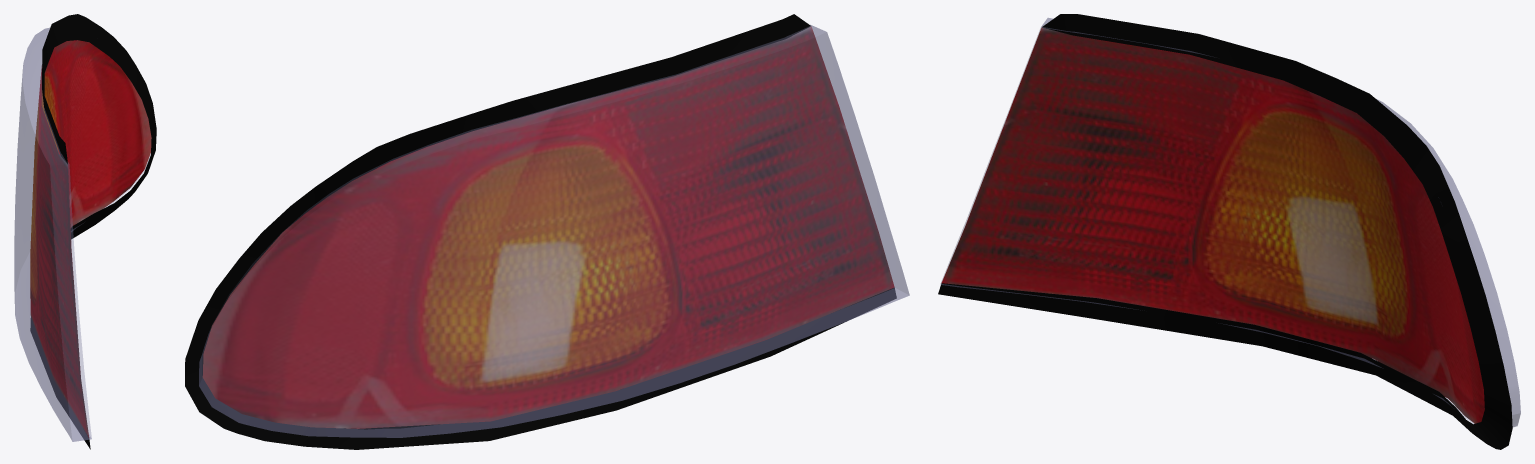
3 renders of one model, left to right at view 1: azimuth 30°, elevation 25°; view 2: azimuth 150°, elevation 25°; view 3: azimuth 270°, elevation 25°, orthographic. The views are drawn at different scales.
Visible parts, largest first — view 1: Y210_541C_L_Y210_541C_L_2_N, Y210_541C_L_1_DTaSI_Y210_541C_L, Y210_541C_L_Y210_541C_L_3_D; view 2: Y210_541C_L_1_DTaSI_Y210_541C_L, Y210_541C_L_Y210_541C_L_2_N, Y210_541C_L_Y210_541C_L_3_D; view 3: Y210_541C_L_Y210_541C_L_2_N, Y210_541C_L_Y210_541C_L_3_D, Y210_541C_L_1_DTaSI_Y210_541C_L.
Part boxes in pixels (<box>): Y210_541C_L_Y210_541C_L_2_N: <box>30,40,151,437</box>; Y210_541C_L_1_DTaSI_Y210_541C_L: <box>14,27,150,441</box>; Y210_541C_L_Y210_541C_L_3_D: <box>30,14,156,449</box>; Y210_541C_L_1_DTaSI_Y210_541C_L: <box>199,25,909,437</box>; Y210_541C_L_Y210_541C_L_2_N: <box>202,26,894,428</box>; Y210_541C_L_Y210_541C_L_3_D: <box>185,14,896,449</box>; Y210_541C_L_Y210_541C_L_2_N: <box>941,27,1484,423</box>; Y210_541C_L_Y210_541C_L_3_D: <box>938,14,1512,449</box>; Y210_541C_L_1_DTaSI_Y210_541C_L: <box>940,18,1520,427</box>.
Bounding box in the file's own units: 26.55 × 20.4 × 35.45.
